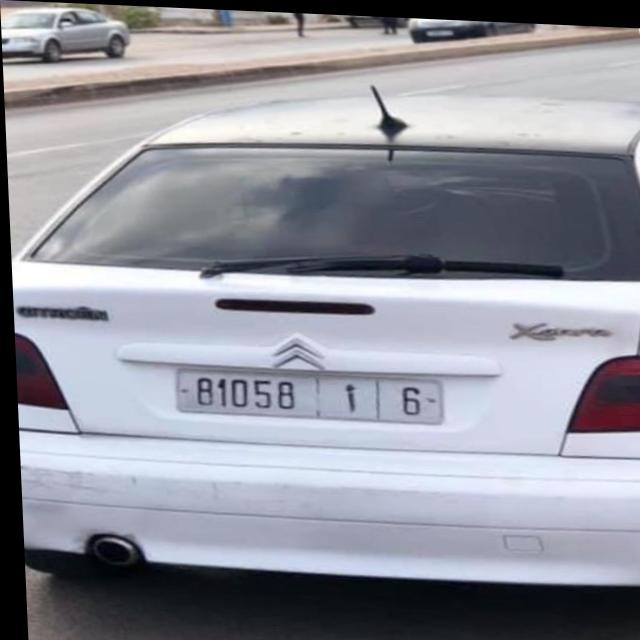License-Plate: (176, 369, 436, 419)
